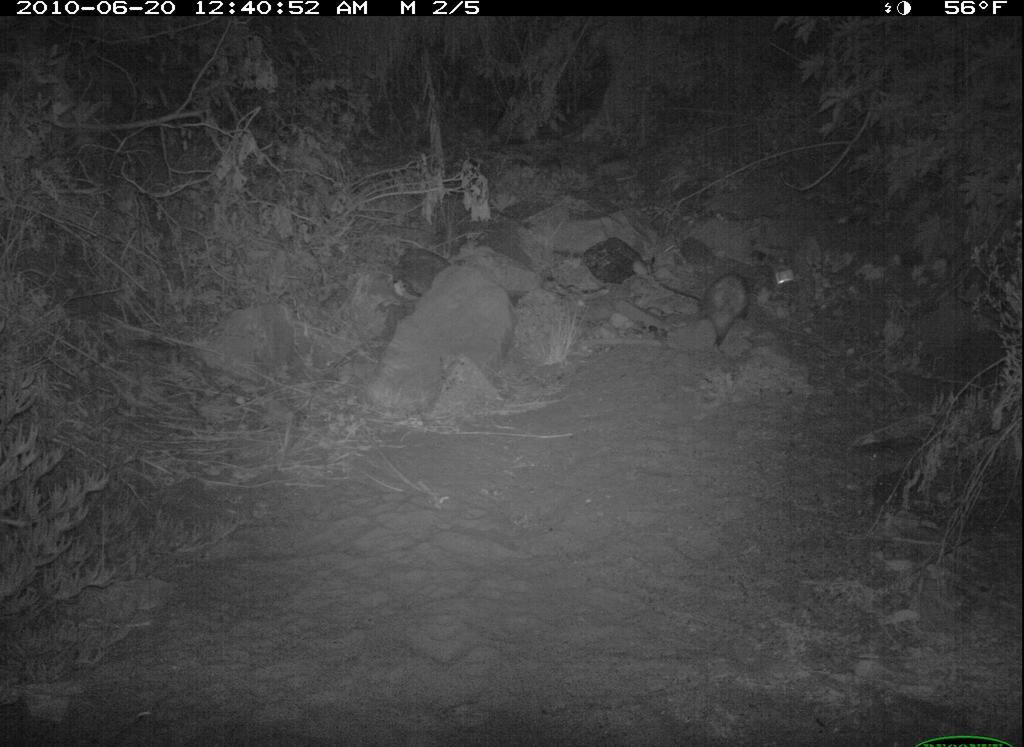opossum: (688, 260, 767, 367)
